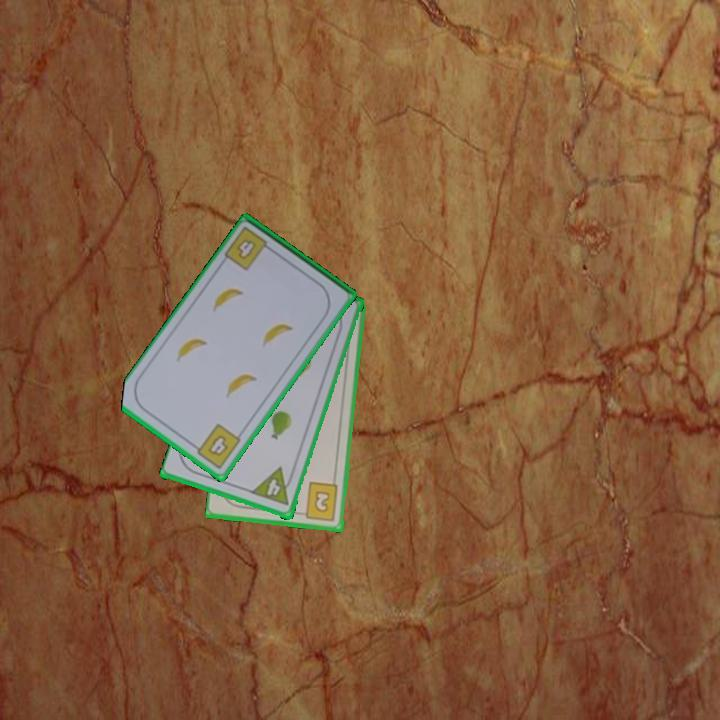2b: (296, 480, 341, 524)
4b: (189, 420, 244, 472), (221, 223, 277, 273)
4p: (250, 465, 284, 501)
